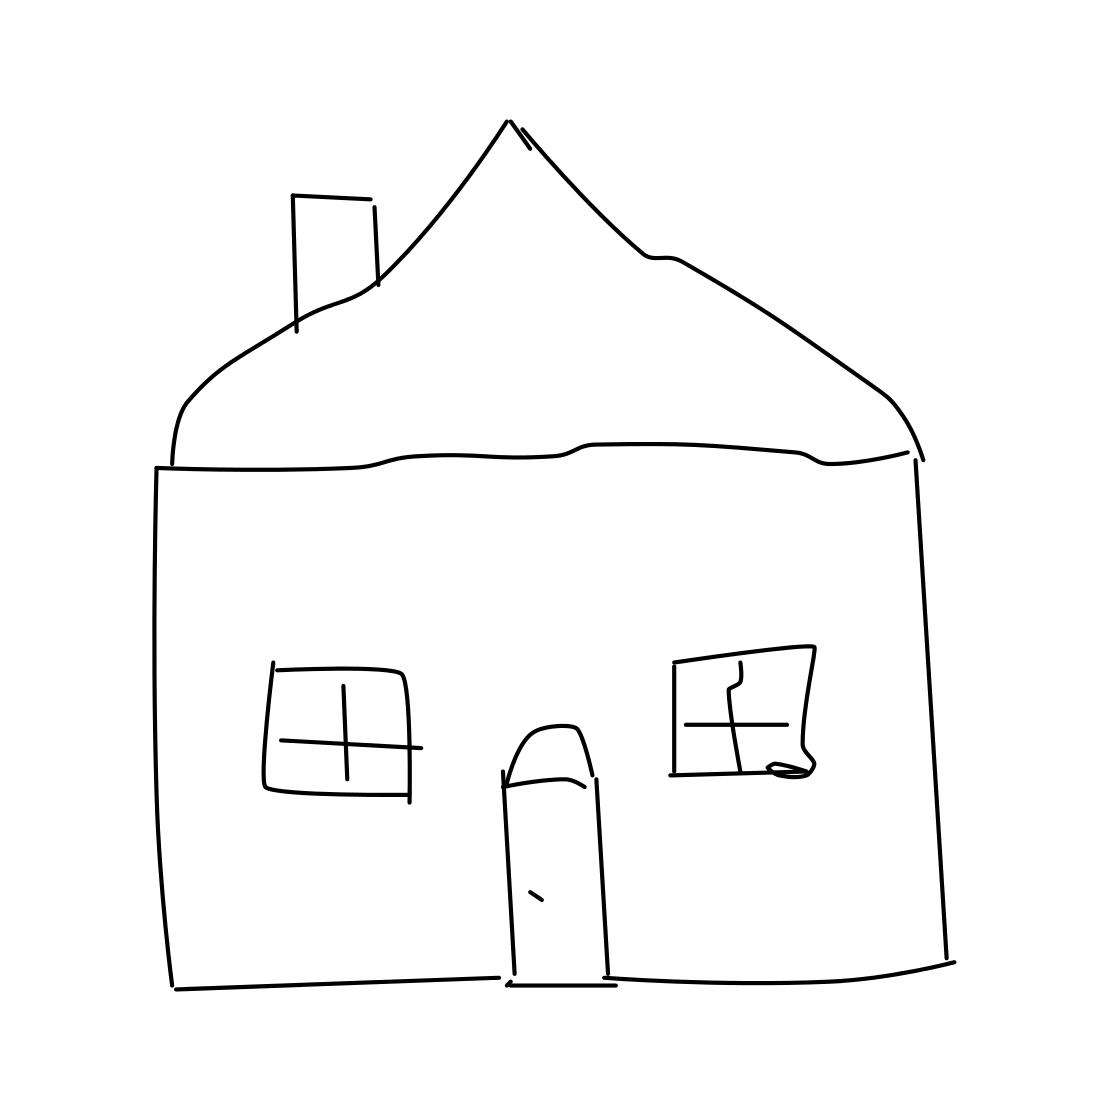chimney: (277, 178, 387, 339)
door: (493, 687, 624, 995)
house: (143, 105, 966, 1002)
roof: (149, 110, 930, 477)
window: (653, 629, 840, 788), (251, 656, 426, 815)
